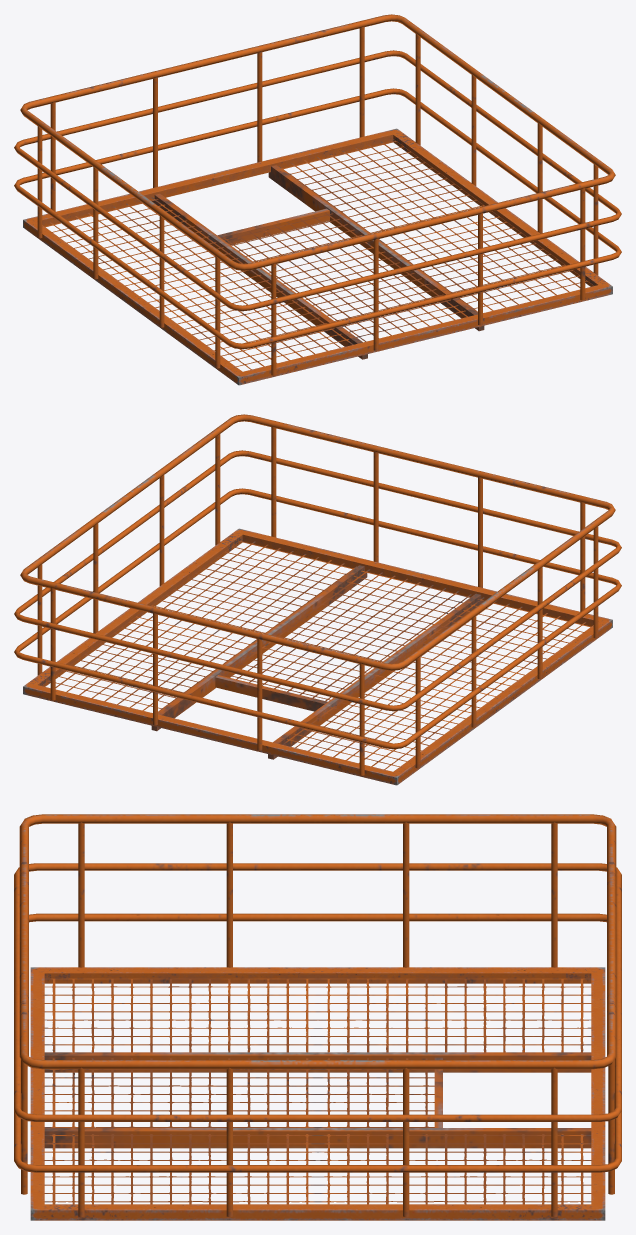
File: Platform_06.fbx
The picture shows the model from 3 angles, top to bottom: view 1: azimuth 30°, elevation 25°; view 2: azimuth 150°, elevation 25°; view 3: azimuth 270°, elevation 25°; orthographic projection. The views are drawn at different scales.
Visible parts, largest first — view 1: Platform_06_LOD0; view 2: Platform_06_LOD0; view 3: Platform_06_LOD0.
Boxes of the visible parts, left/top/right/bottom form: Platform_06_LOD0: left=14, top=14, right=621, bottom=385; Platform_06_LOD0: left=14, top=414, right=621, bottom=785; Platform_06_LOD0: left=14, top=814, right=621, bottom=1220.
Size of what is drawn, in the model's own units: 3.23 by 1.01 by 3.26.
